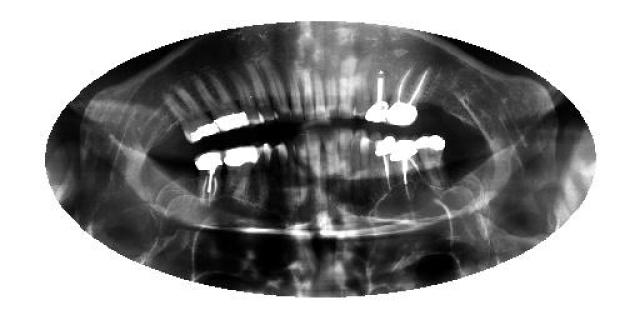Fillings: (164, 88, 220, 144), (196, 77, 250, 135), (225, 145, 260, 204), (416, 135, 444, 187)
Implant: (388, 67, 428, 126), (389, 138, 425, 202), (365, 58, 394, 124), (196, 150, 225, 208), (376, 136, 394, 194)
